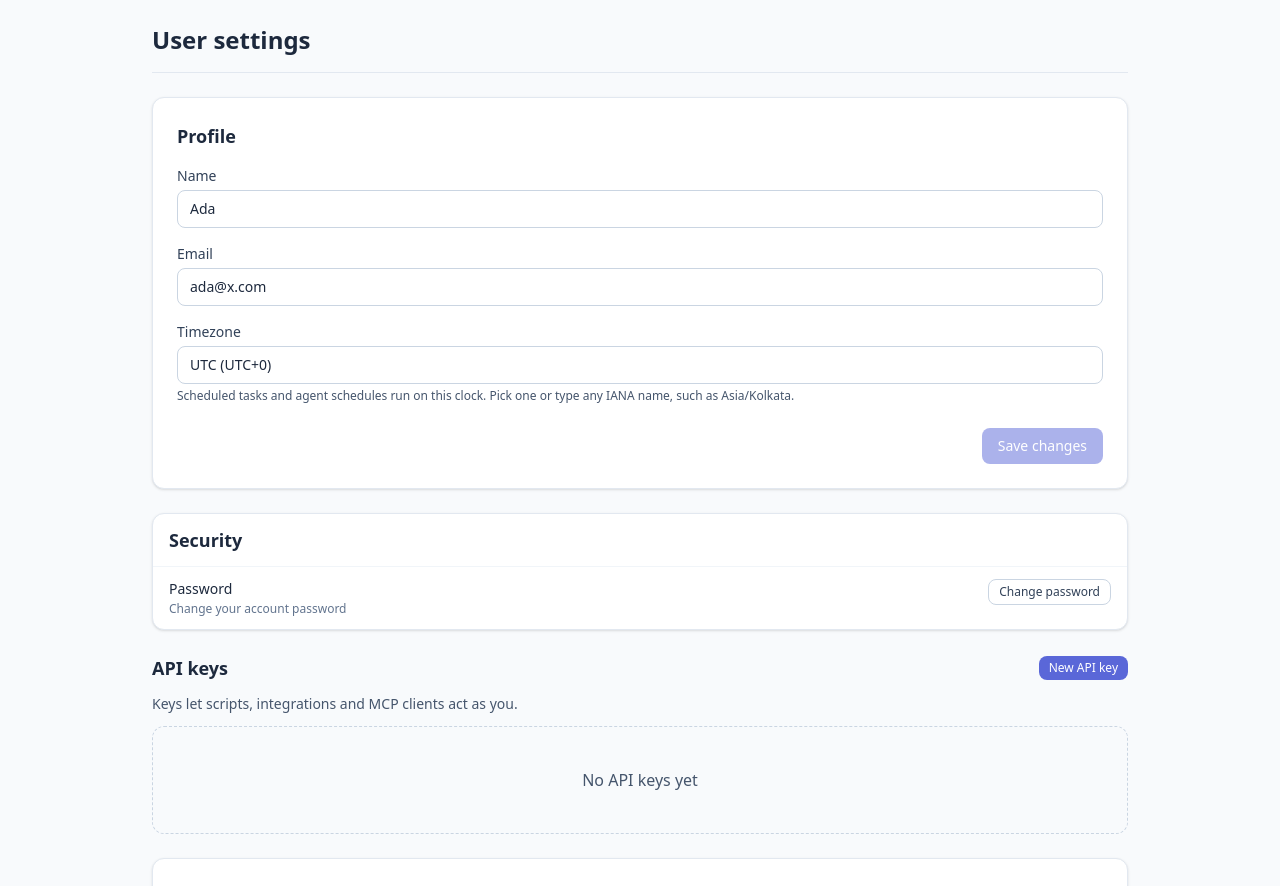
Scenario: UserSettings change password › posts a valid password change and closes the modal with success
The image size is (1280, 886).
Click the button "Change password" at (1050, 592), box [988, 579, 1111, 605]
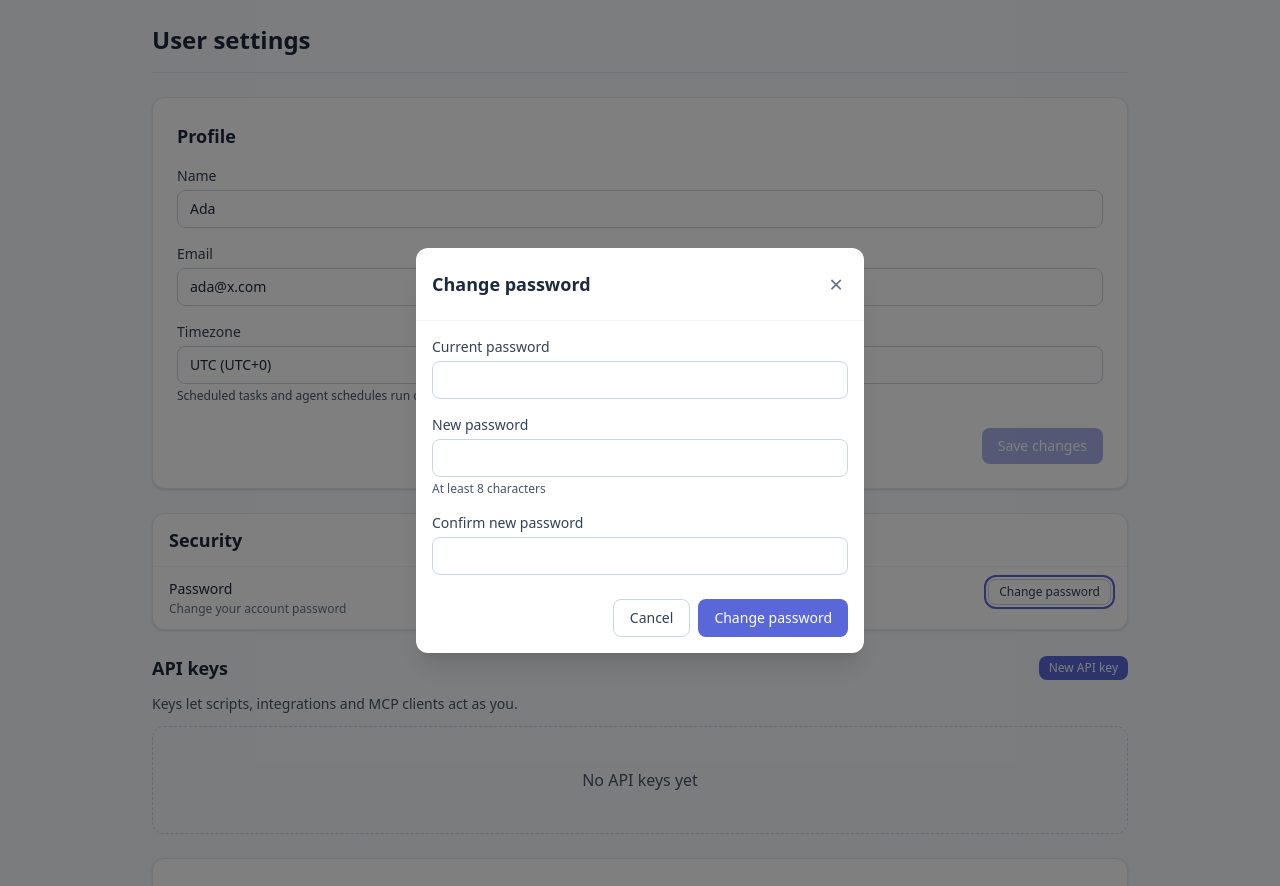
Type "oldpass12" into the password field labelled "Current password" at (640, 380), box [432, 360, 848, 398]
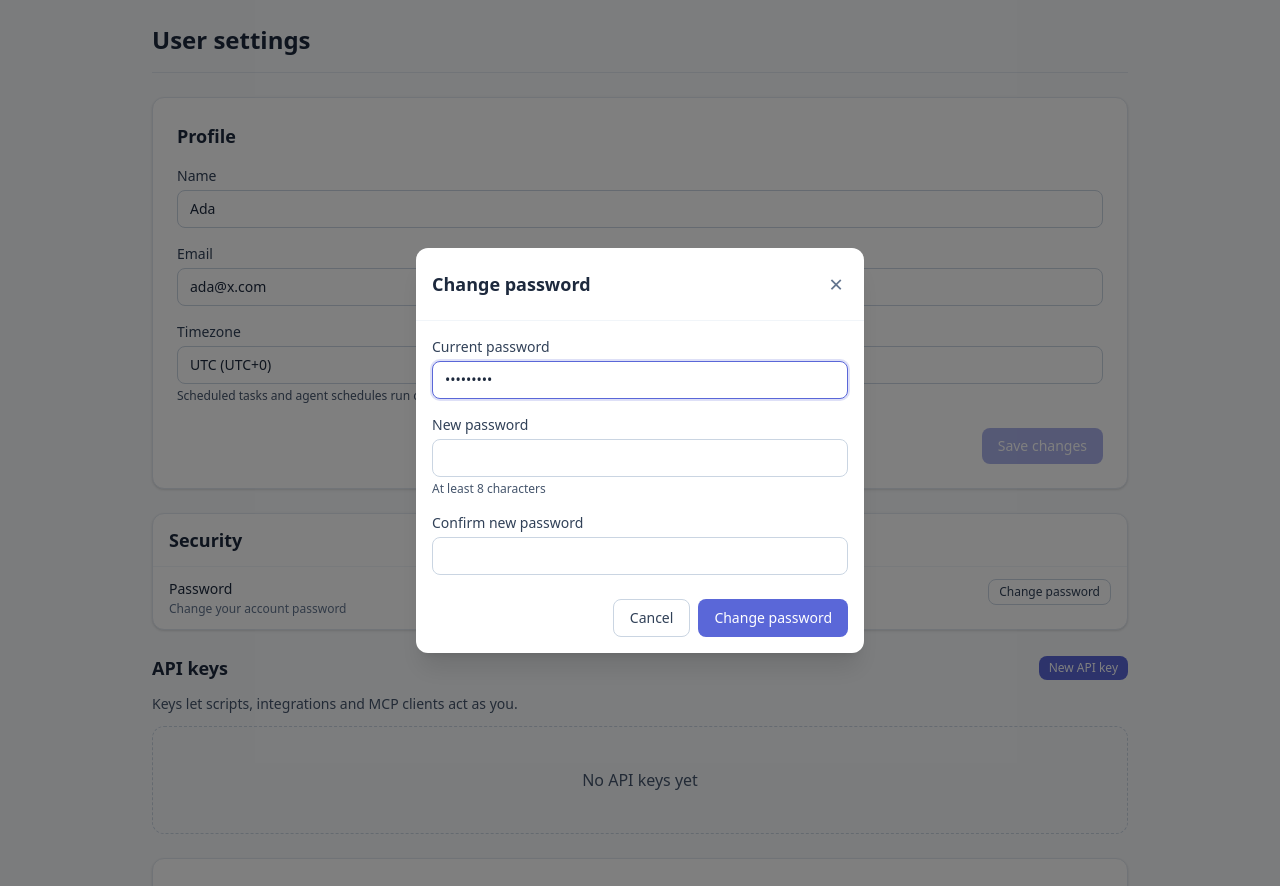
Type "newpass12" into the password field labelled "New password" at (640, 458), box [432, 438, 848, 476]
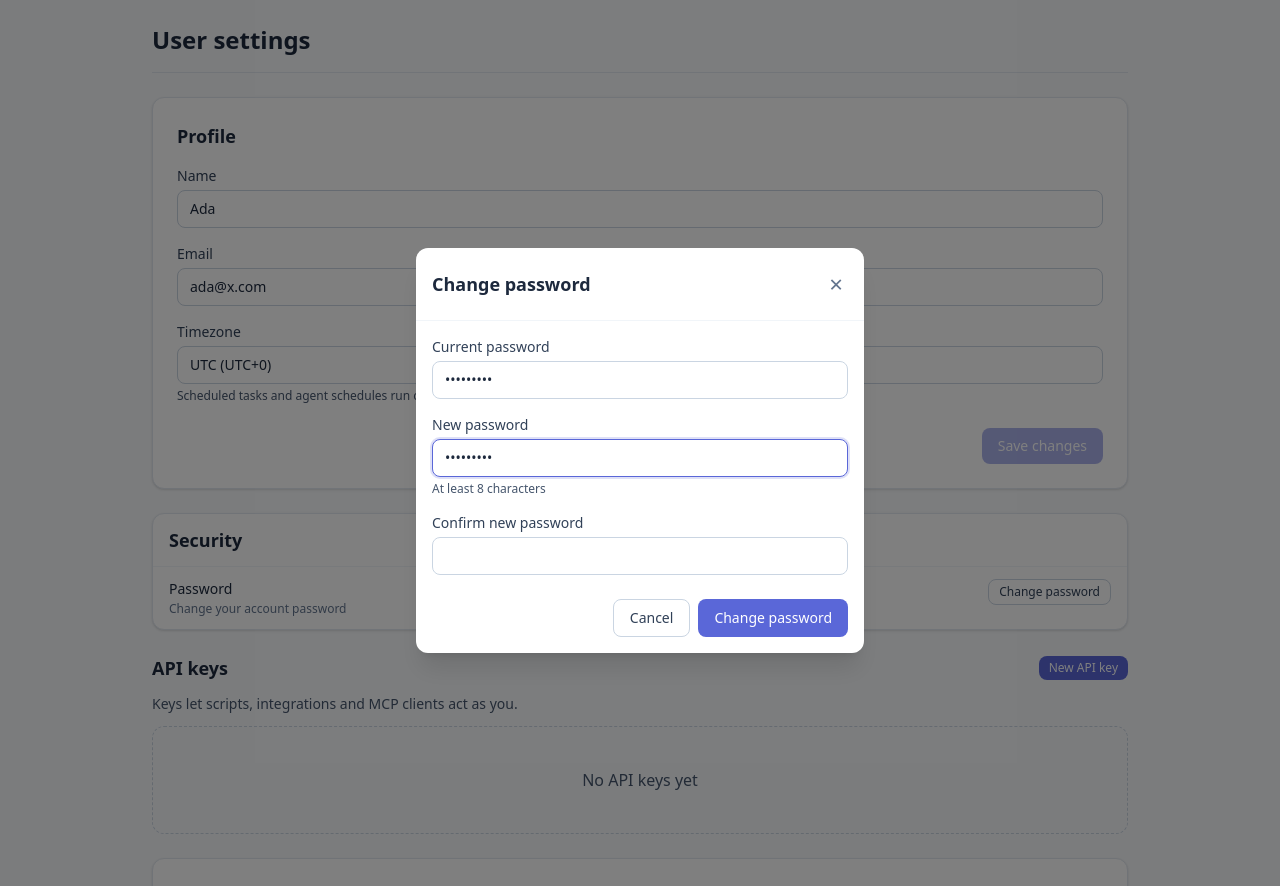
Type "newpass12" into the password field labelled "Confirm new password" at (640, 556), box [432, 536, 848, 574]
Then press Enter
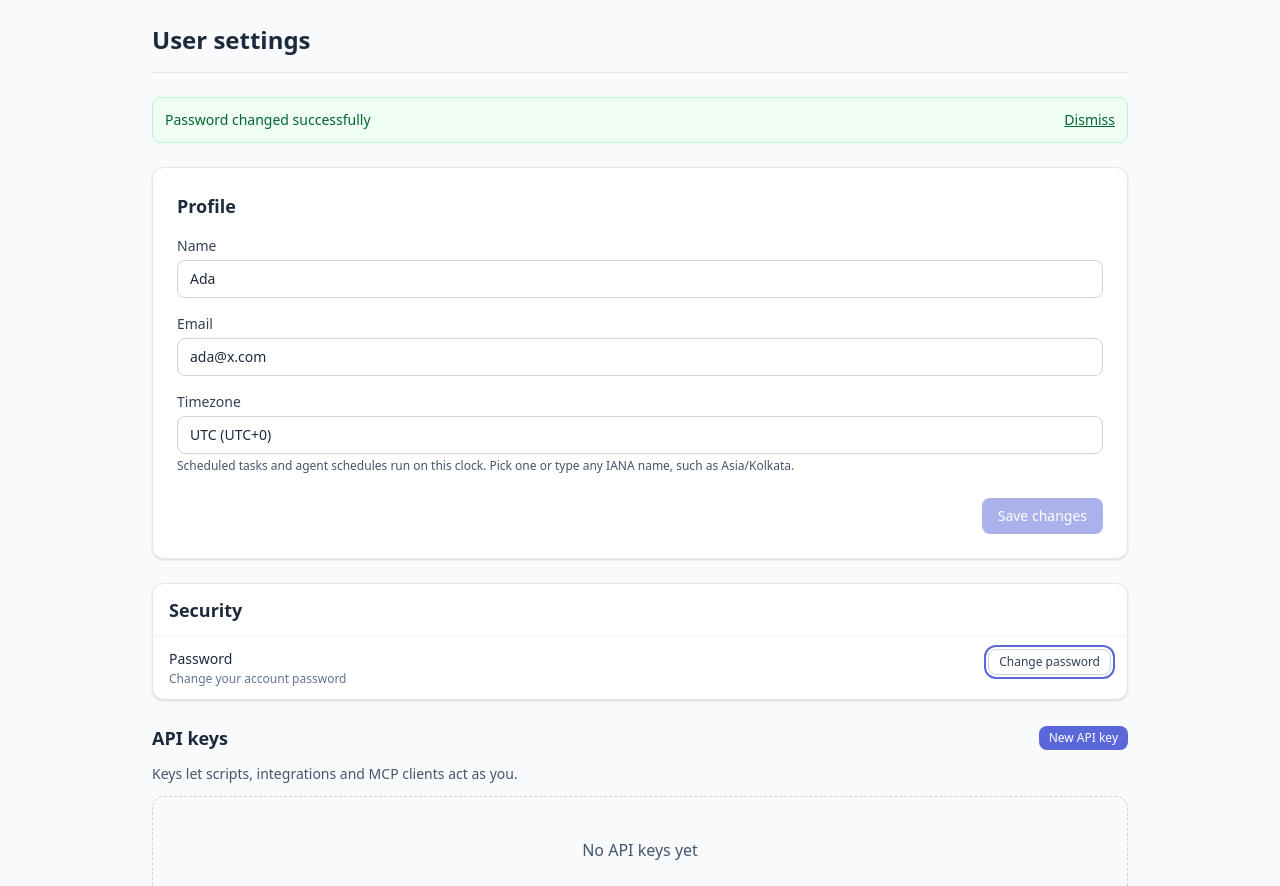
Expected: the text "Password changed successfully" is shown, [165, 110, 370, 130]
